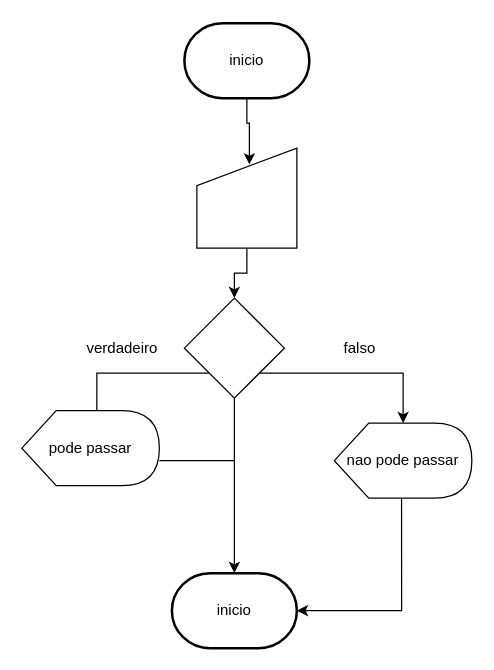
This 494x670 diagram has some shape labels left out. Each missing label, with the box of its shape:
idade: (196, 147, 297, 248)
idade+18: (183, 297, 284, 398)
